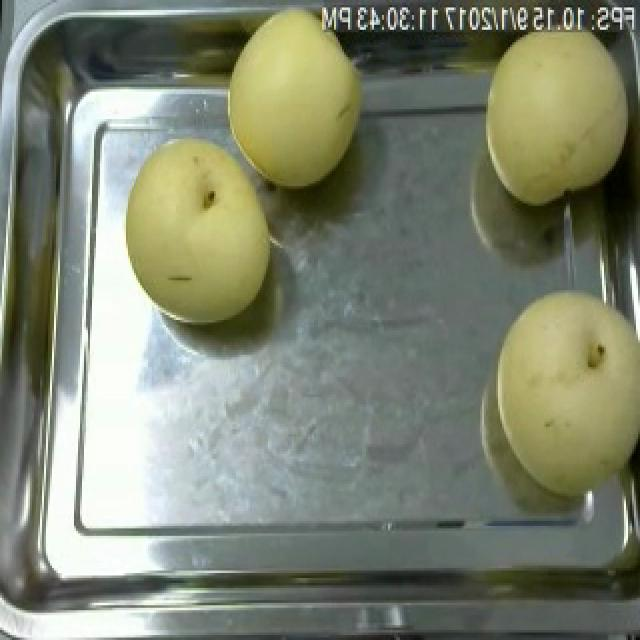Fruit: (480, 273, 640, 503), (116, 128, 282, 332), (474, 7, 638, 211), (218, 5, 376, 196)
